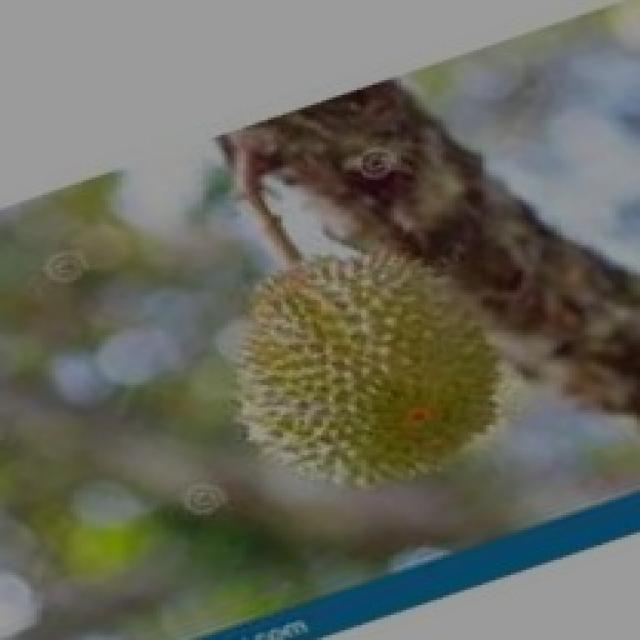fruit: (182, 202, 538, 548)
